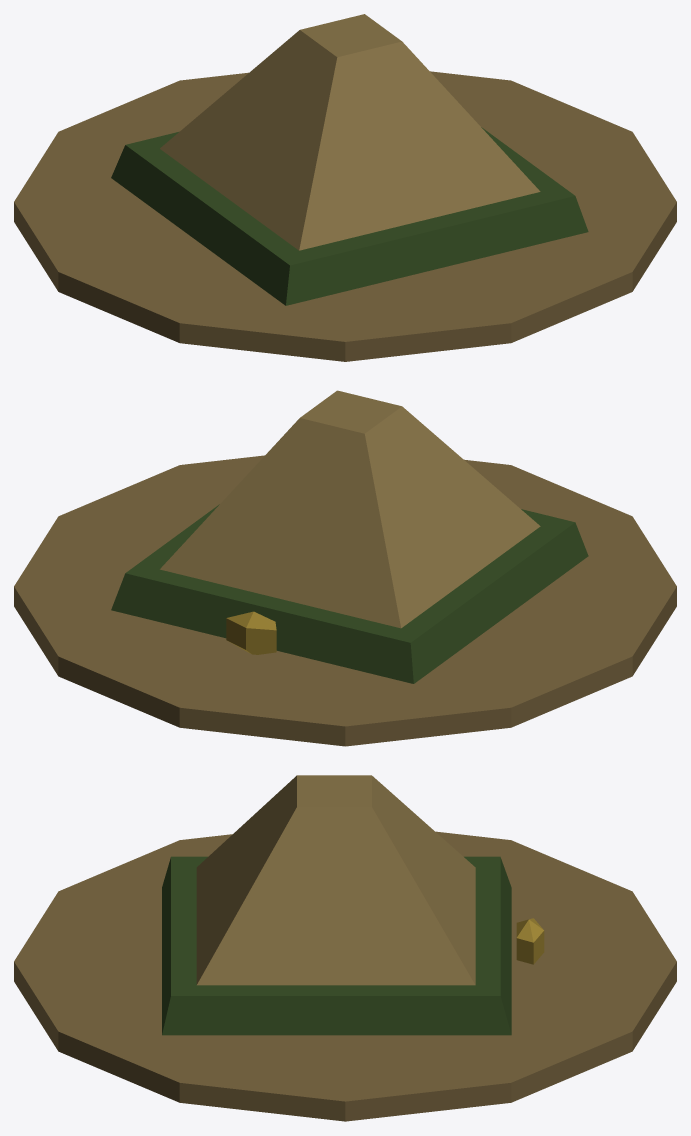
The model's file is hat_warden.glb.
3 views of the same model, one above another, from view 1: azimuth 30°, elevation 25°; view 2: azimuth 150°, elevation 25°; view 3: azimuth 270°, elevation 25° (orthographic).
Parts seen in each view (by area): view 1: Hat; view 2: Hat; view 3: Hat.
Part boxes in pixels (x1,y1,x2,y2): Hat: (14, 14, 676, 361); Hat: (14, 390, 676, 746); Hat: (14, 775, 676, 1121).
Bounding box in the file's own units: 0.6 × 0.19 × 0.6.
